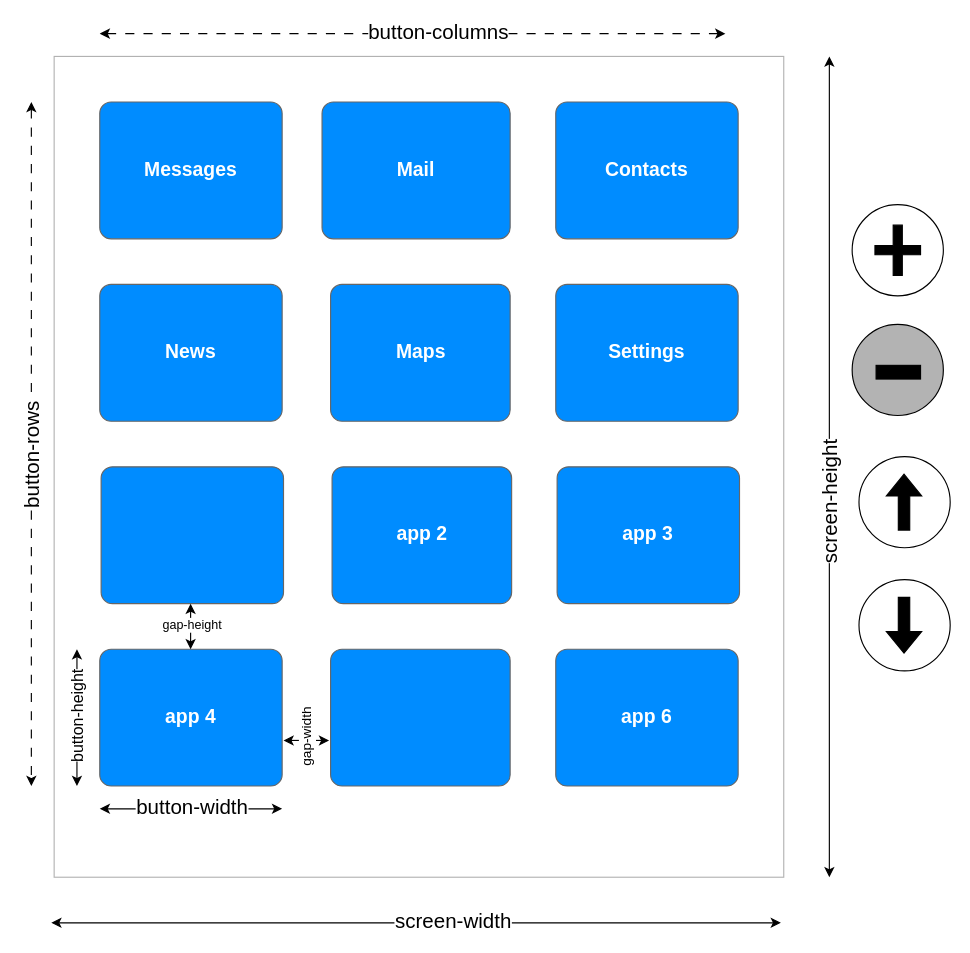
Image size: 970x953. Some labels were removed from this diagram. The shapes that lost their labels are listed below. From the top down, each one's centre as x and y in pixels, then its label:
(x=192, y=535): app 1
(x=419, y=717): app 5
